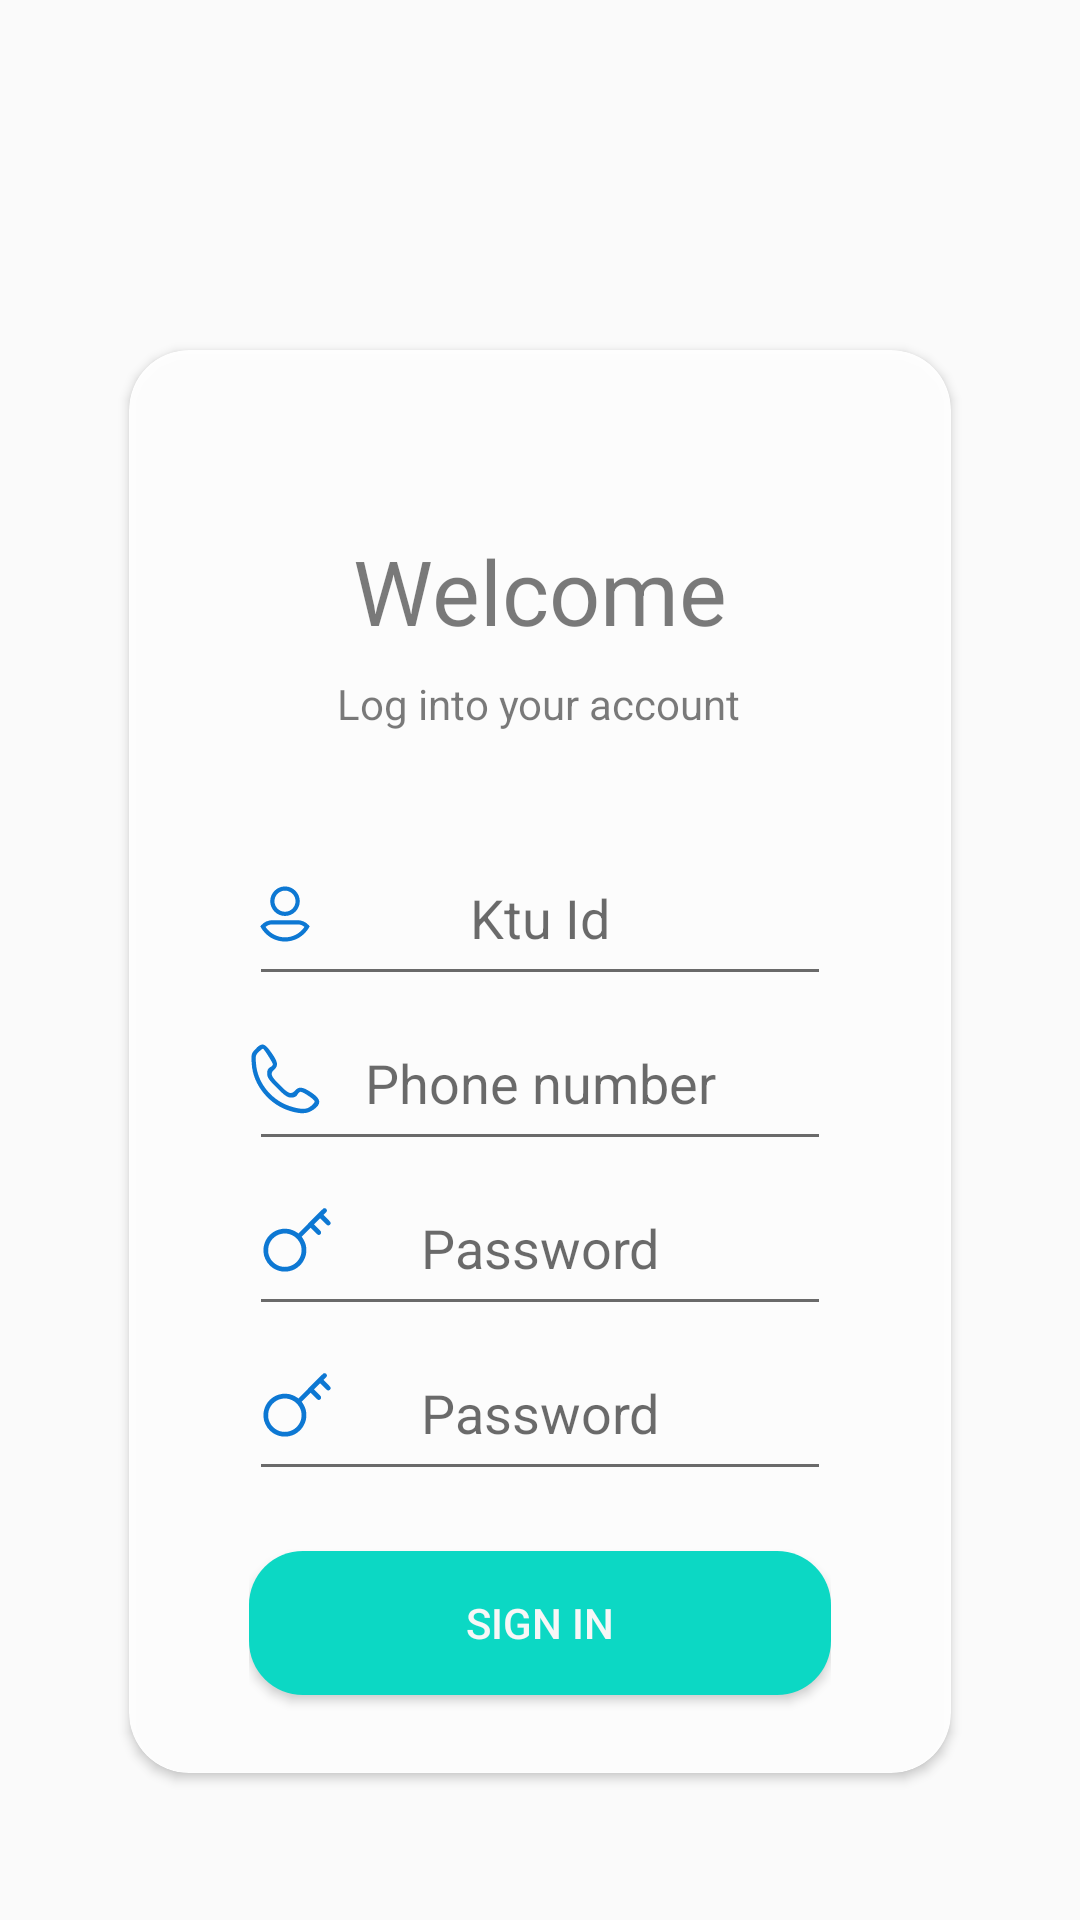

Icon click points for this 1080px x 1920px phone screenshot, format (x,y):
key: (297,1240), (297,1405)
user: (285,914)
